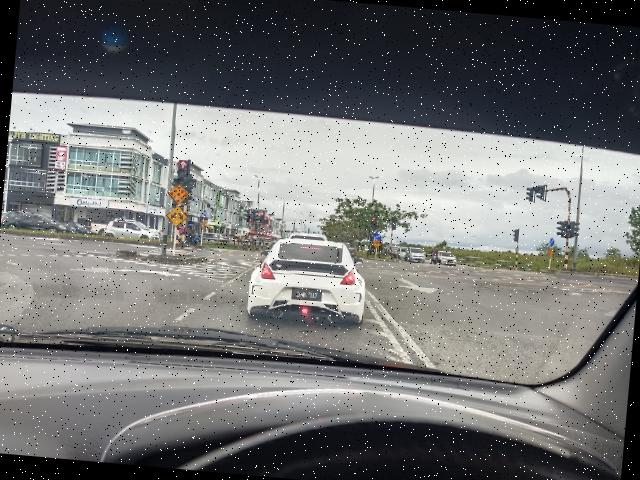License_Plate: (292, 288, 323, 302)
car: (243, 232, 372, 328)
